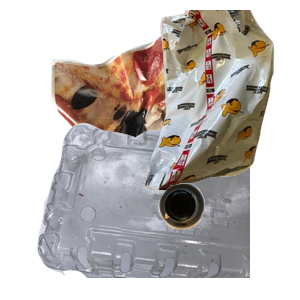glass: (156, 181, 300, 300)
paper: (49, 10, 289, 190)
plastic: (35, 120, 275, 300)
trash: (127, 10, 300, 190)
